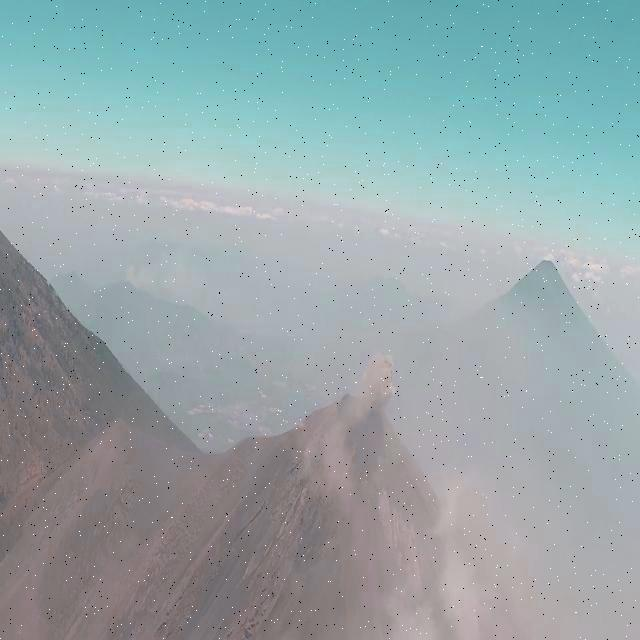Plume: (360, 348, 400, 423)
Summit: (262, 386, 480, 600)
